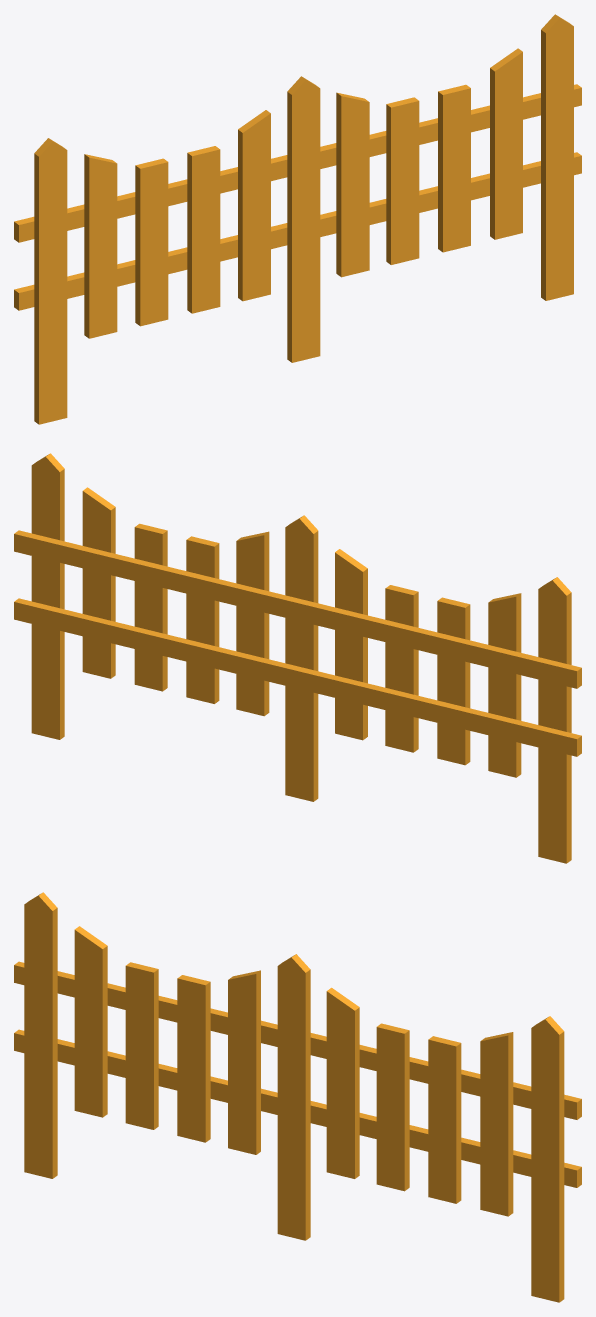
File: SM_Fence_Picket_White_2m.fbx
The picture shows the model from 3 angles, top to bottom: view 1: azimuth 30°, elevation 25°; view 2: azimuth 150°, elevation 25°; view 3: azimuth 330°, elevation 25°; orthographic projection.
Parts seen in each view (by area): view 1: fence-picket-white-2m; view 2: fence-picket-white-2m; view 3: fence-picket-white-2m.
Part boxes in pixels (x1,y1,x2,y2): fence-picket-white-2m: (14, 14, 581, 424); fence-picket-white-2m: (14, 453, 581, 863); fence-picket-white-2m: (14, 892, 581, 1302).
Bounding box in the file's own units: 2 × 0.9499 × 0.06.
